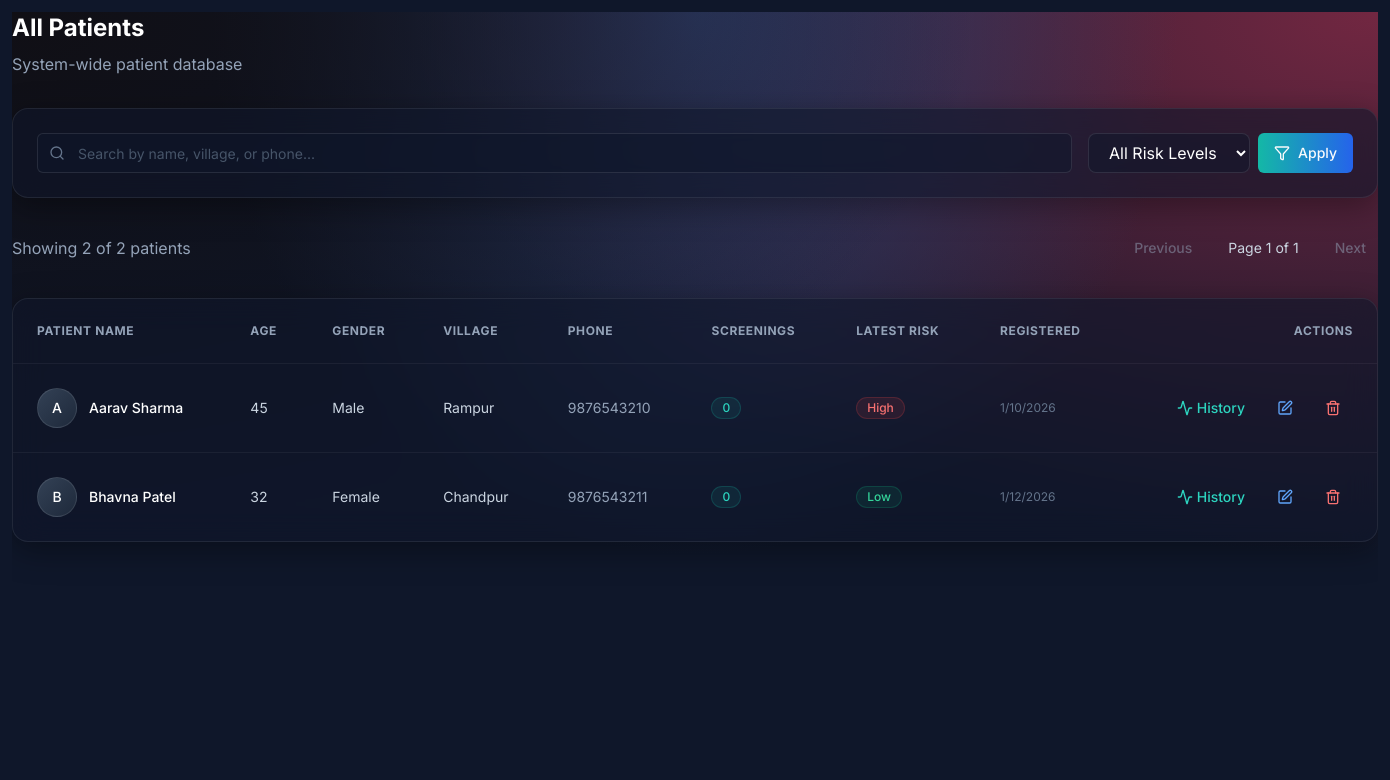
Test: AllPatientsPage › filters patient list based on search term input
Check: the text "Aarav Sharma" is shown, box [89,399,183,416]
Type "Aarav" into the field with placeholder "Search by name, village, or phone..." at (555, 153), box [37,133,1072,173]
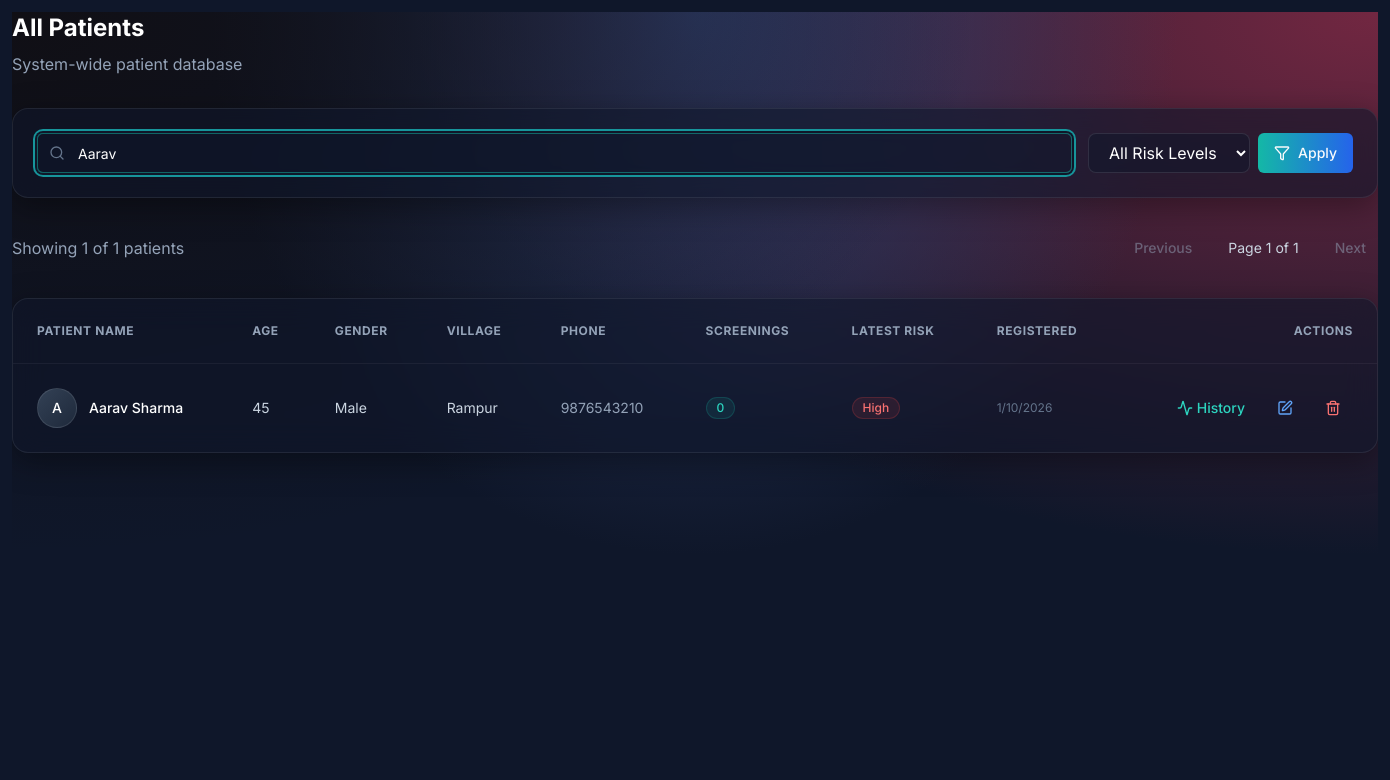
Check: the text "Aarav Sharma" is shown, box [89,399,183,416]
Check: the text "Bhavna Patel" is gone
